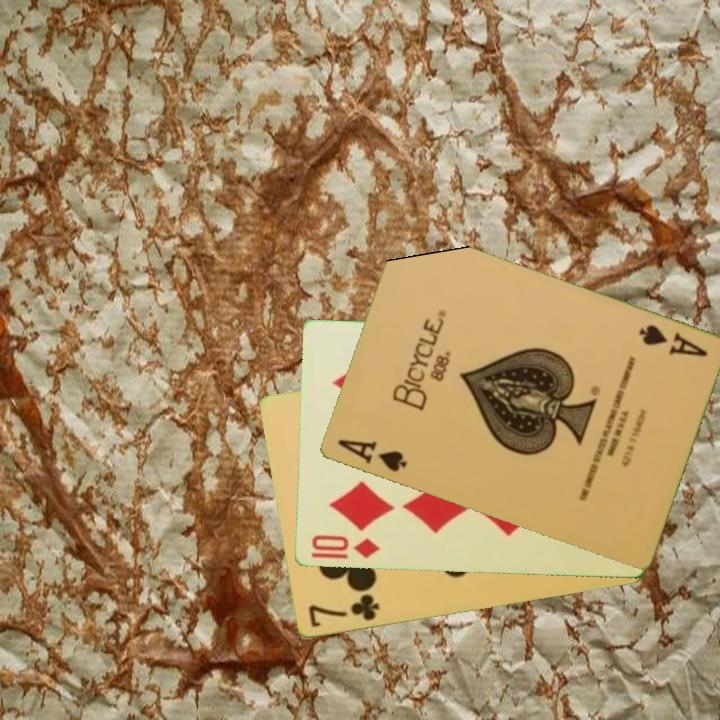10d: (307, 532, 382, 562)
7c: (304, 591, 382, 631)
As: (634, 321, 710, 360), (334, 436, 409, 475)
